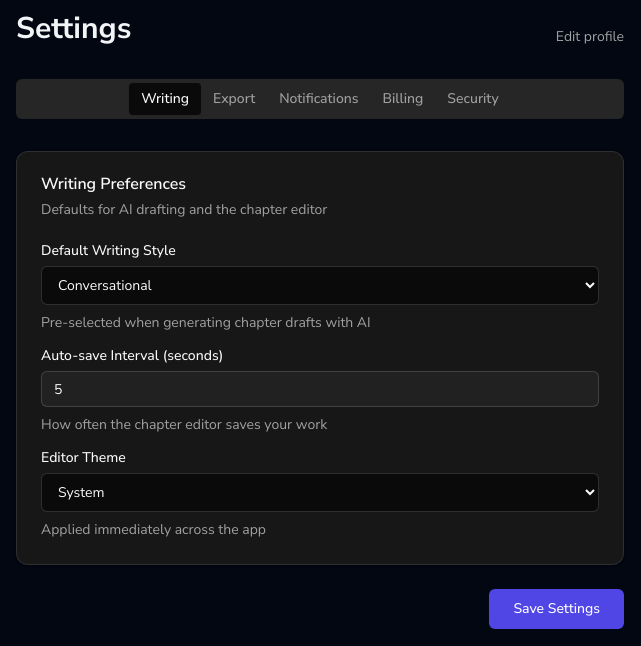
Test: SettingsPage › disables Save and shows an error for an out-of-range auto-save interval
Expected: the button "Save Settings" is enabled, [489,589,624,629]
Replace the text in the number field labelled "Auto-save Interval (seconds)" with "45" at (320, 389), box [41,371,599,407]
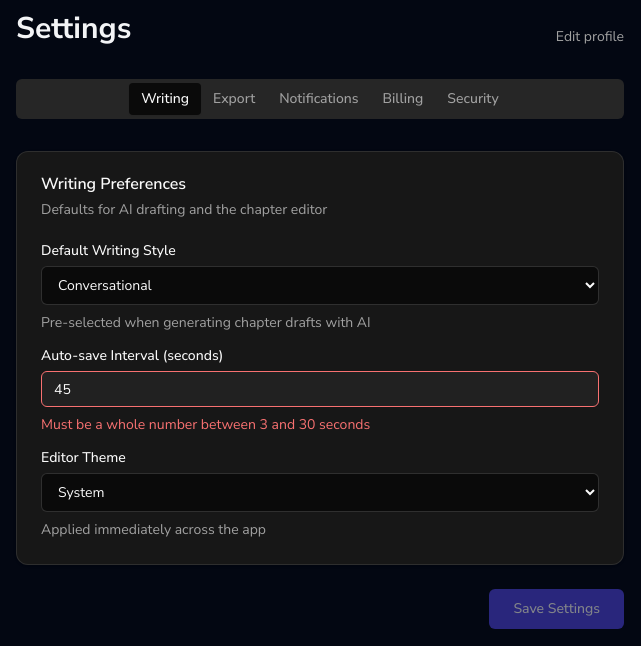
Expected: the message shows "between 3 and 30", [41,415,370,434]
Expected: the button "Save Settings" is disabled, [489,589,624,629]
